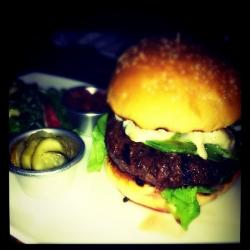burger: (99, 34, 244, 223)
